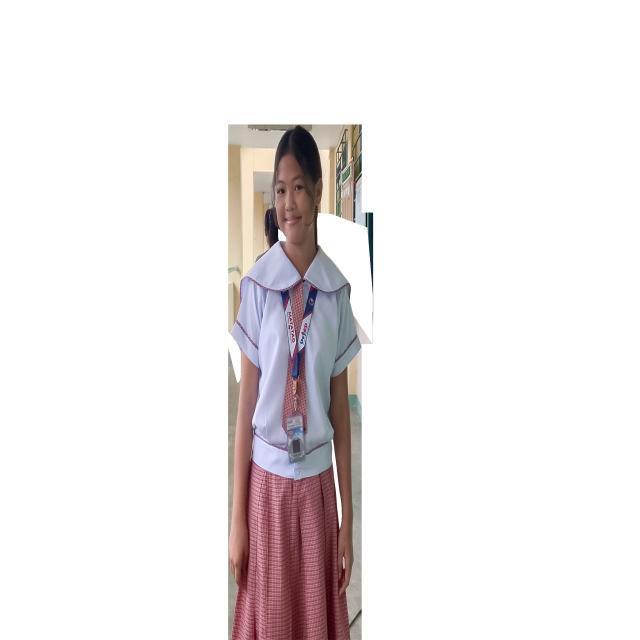id lace: (281, 287, 317, 399)
